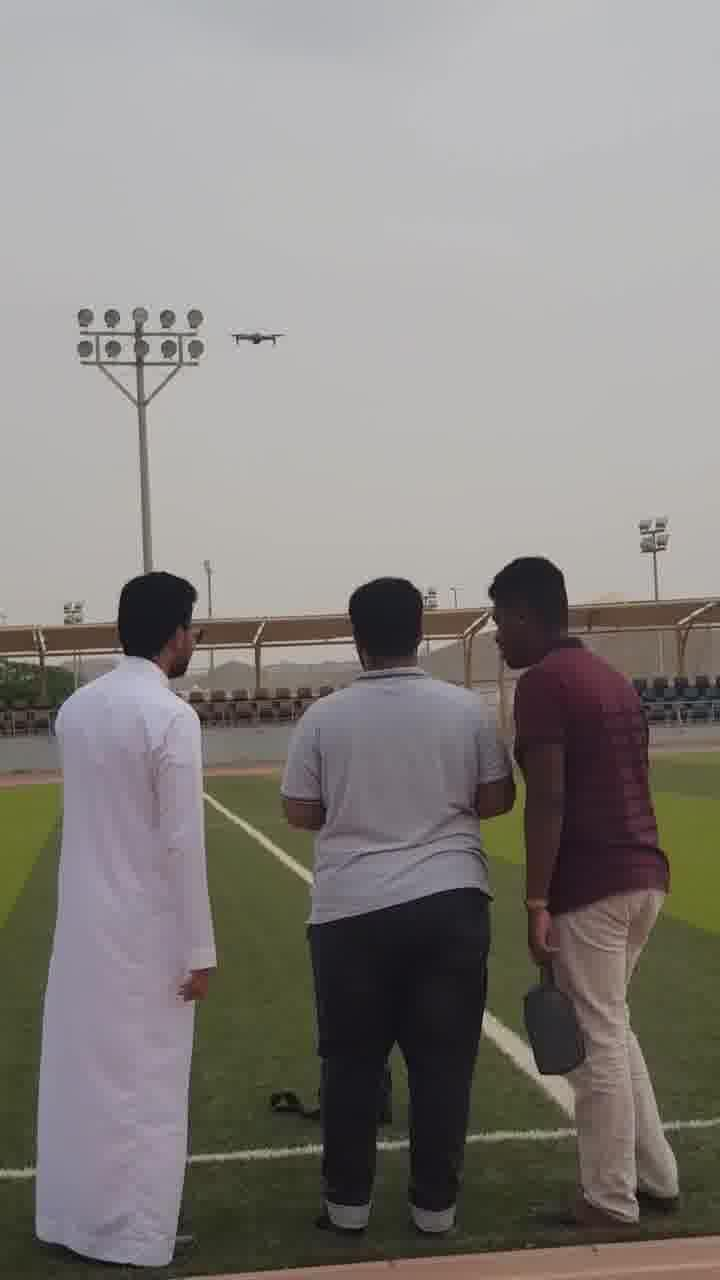drone: (218, 324, 287, 363)
